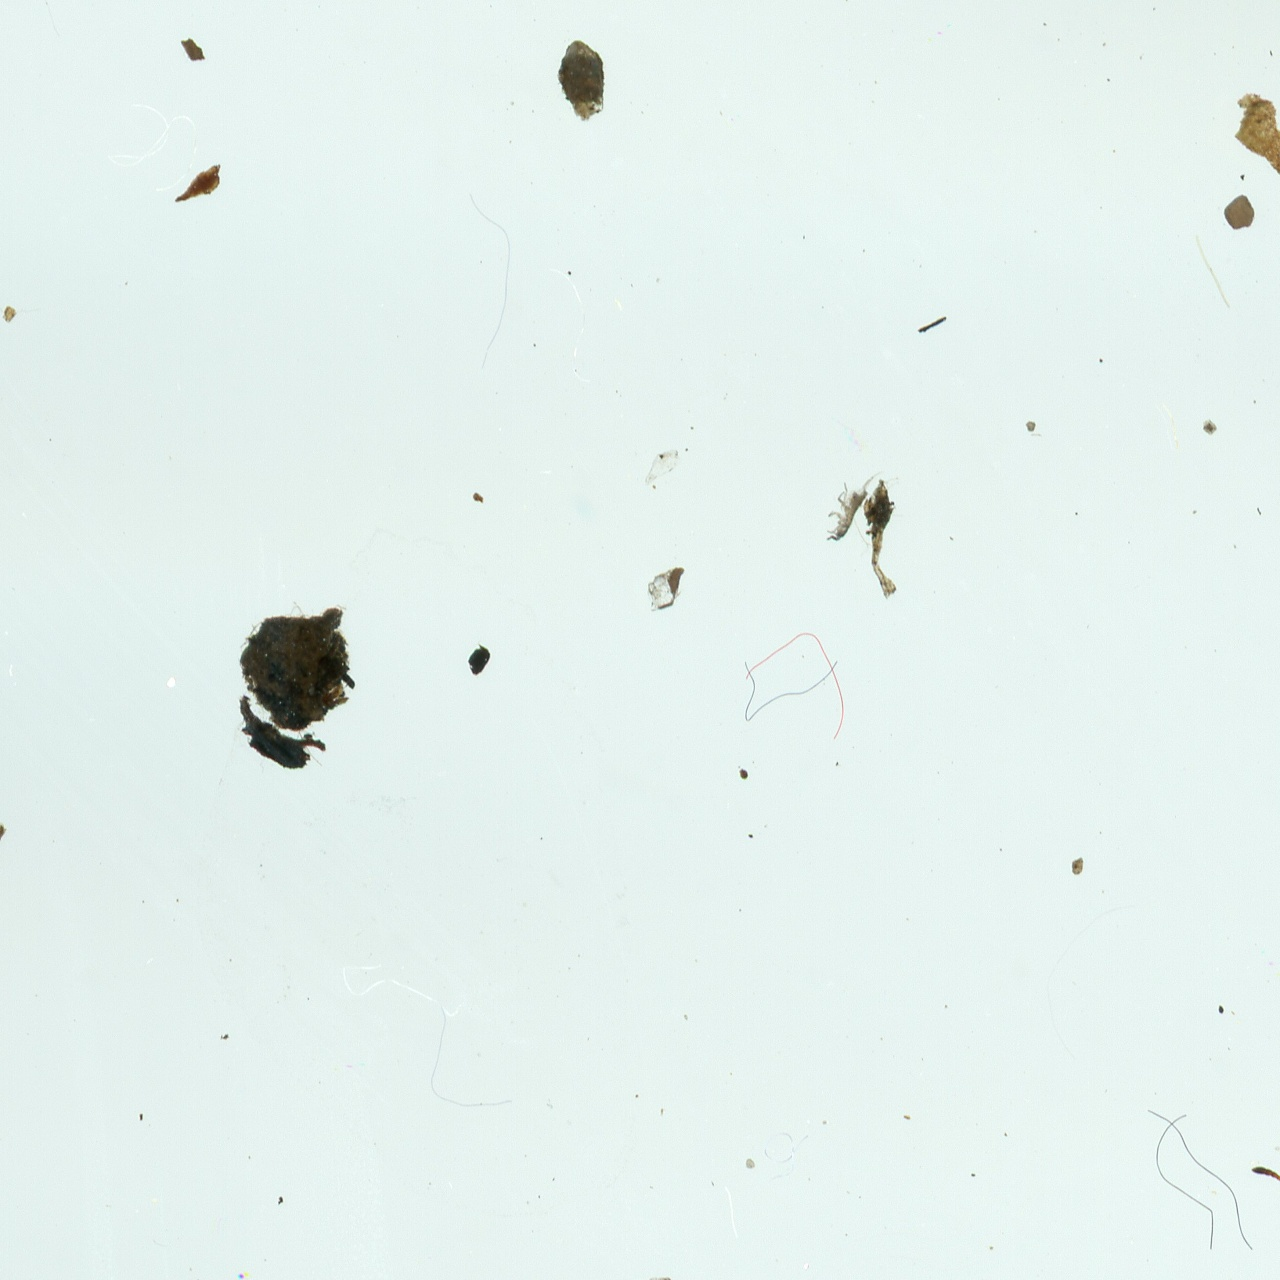arthropod: (811, 453, 891, 554), (1242, 1160, 1280, 1280)
